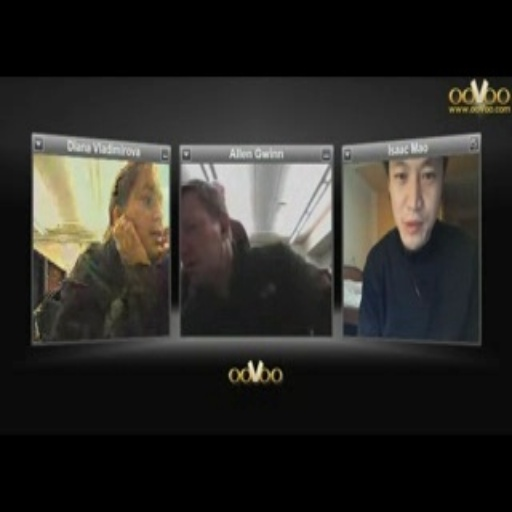hand: (110, 213, 148, 264)
